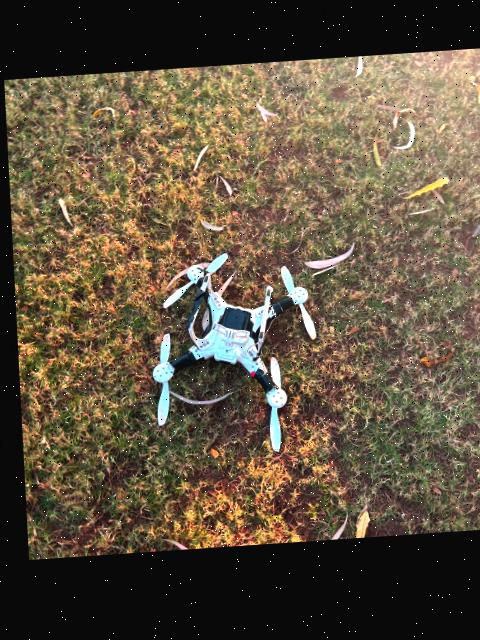drone: (76, 193, 345, 496)
